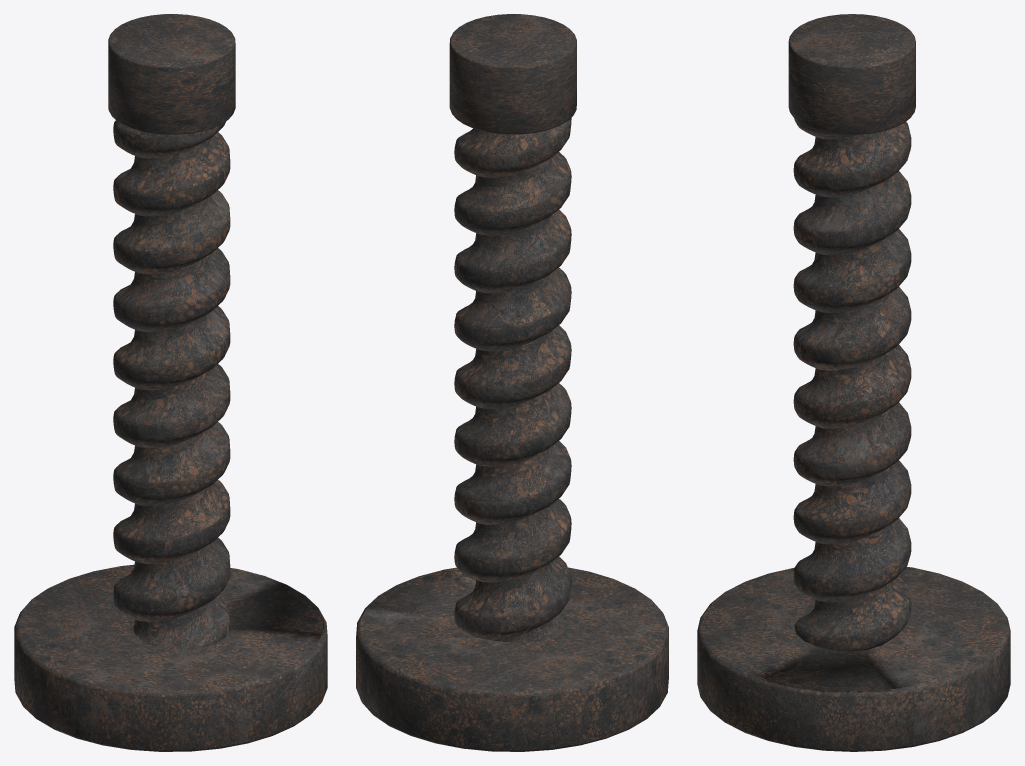
The model's file is ScrewPressScrewOnly.fbx.
The picture shows the model from 3 angles, left to right: view 1: azimuth 30°, elevation 25°; view 2: azimuth 150°, elevation 25°; view 3: azimuth 270°, elevation 25°; orthographic projection.
Visible parts, largest first — view 1: Screw; view 2: Screw; view 3: Screw.
Boxes of the visible parts, x1=… form: Screw: x1=14, y1=14, x2=327, y2=751; Screw: x1=356, y1=14, x2=668, y2=751; Screw: x1=697, y1=14, x2=1010, y2=751.
Size of the model in its own units: 12.28 by 27.97 by 12.28.
